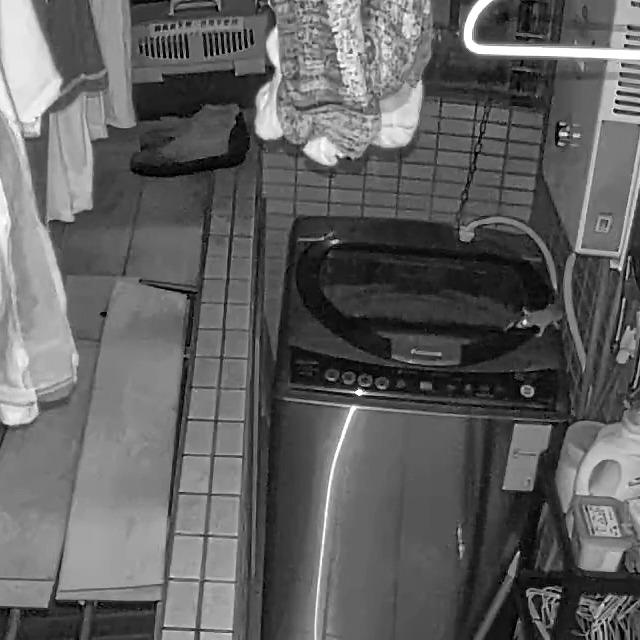rat: (517, 291, 568, 338)
